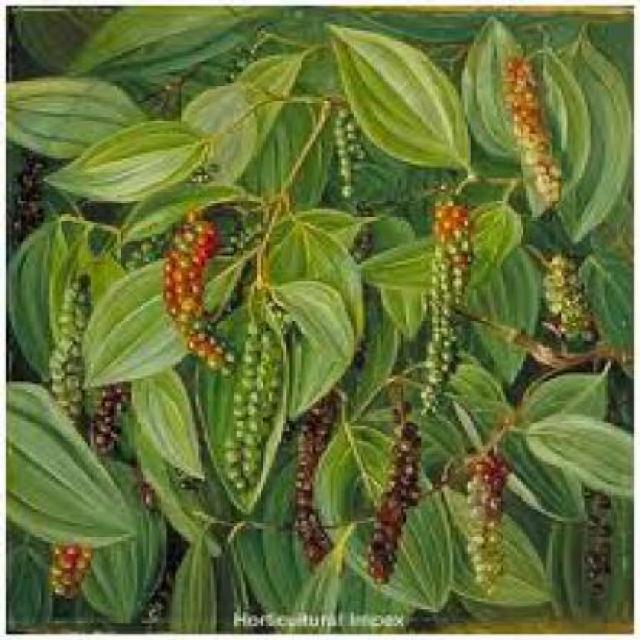RIPE: (141, 214, 222, 317), (488, 47, 555, 142), (429, 200, 477, 251)
